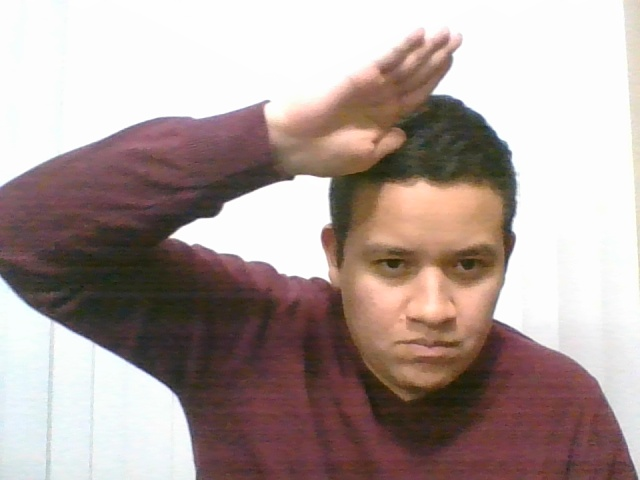Dad: (203, 10, 522, 217)
